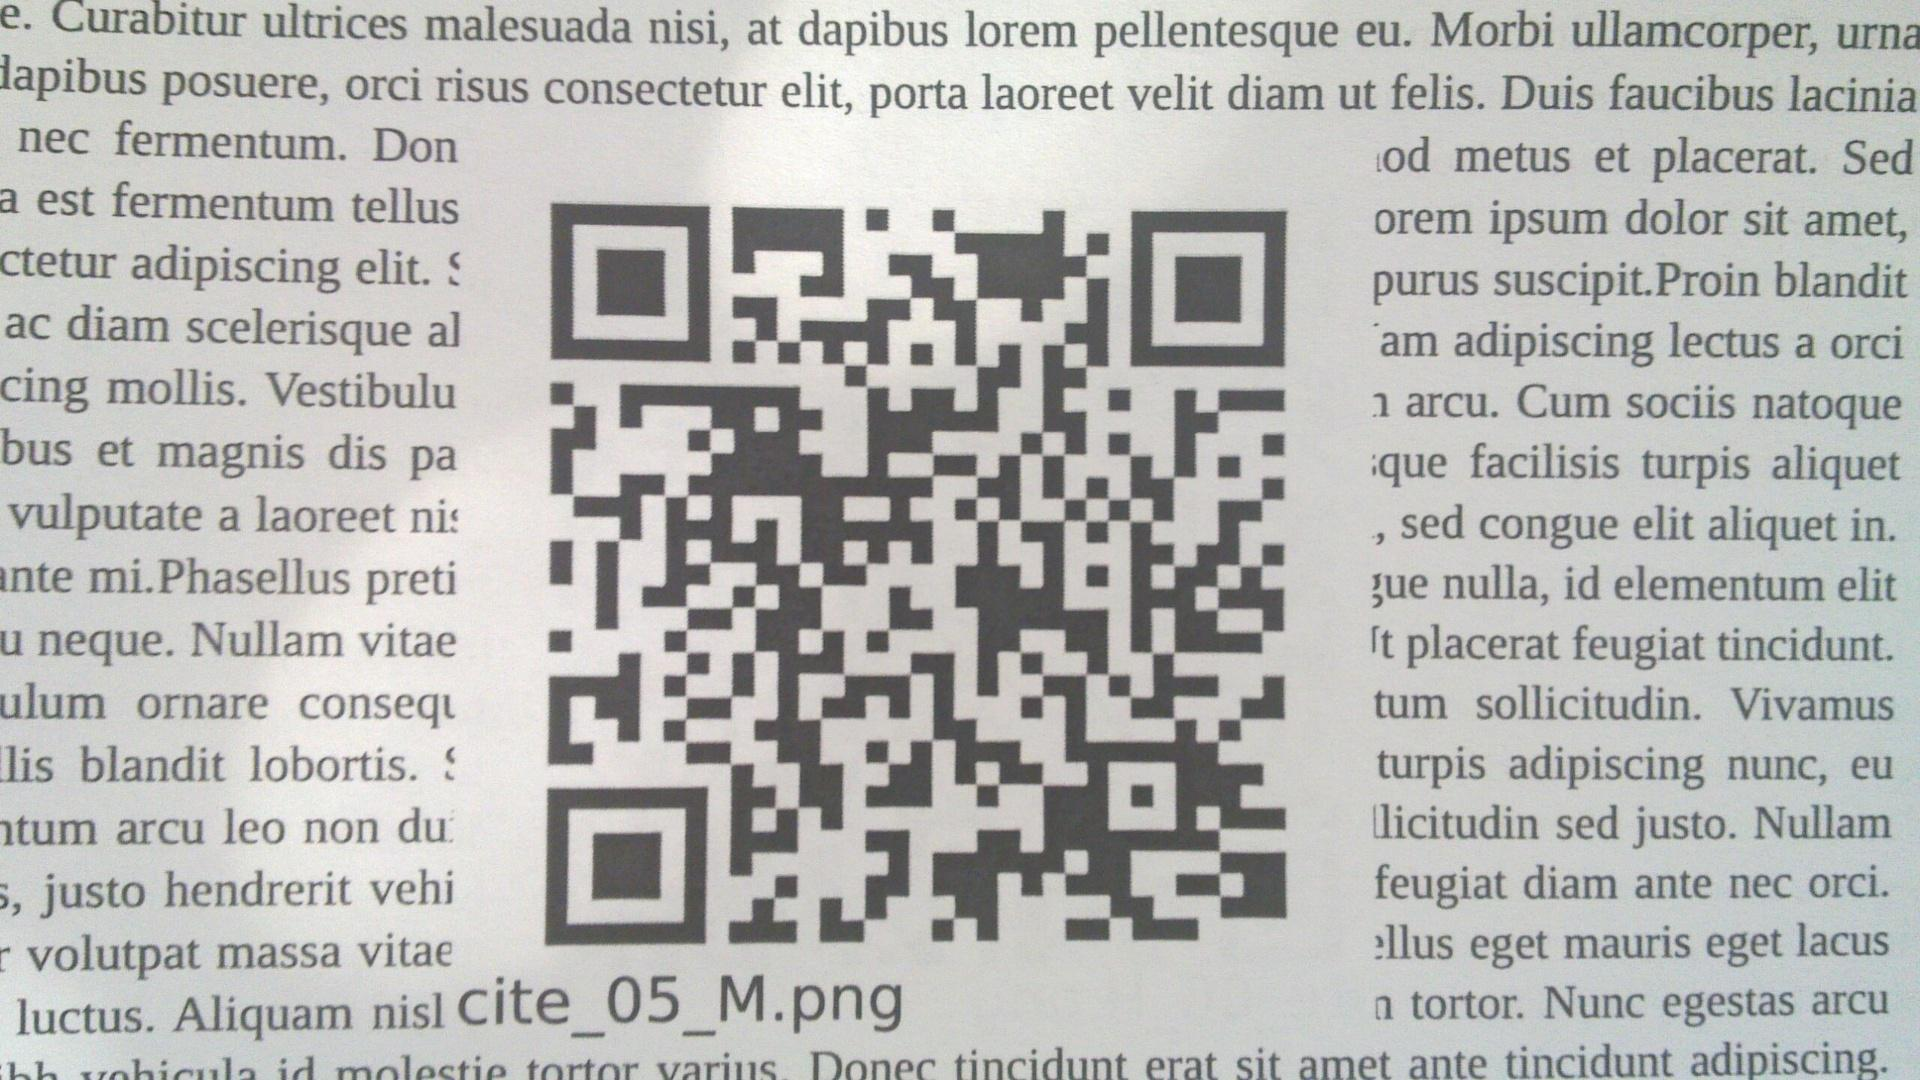Finder pattern: (542, 196, 721, 369), (545, 781, 715, 951), (1126, 204, 1294, 371)
